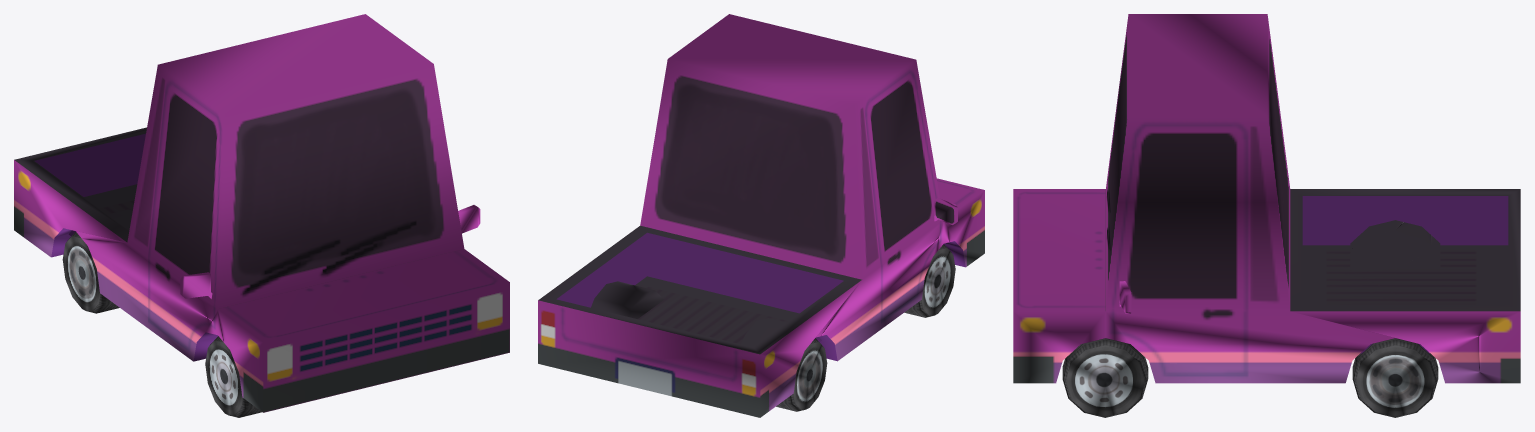
Rendered from pick-up1.gltf.
3 renders of one model, left to right at view 1: azimuth 30°, elevation 25°; view 2: azimuth 150°, elevation 25°; view 3: azimuth 270°, elevation 25°, orthographic. The views are drawn at different scales.
Visible parts, largest first — view 1: Low_Poly_Vehicles_pickupTruck01; view 2: Low_Poly_Vehicles_pickupTruck01; view 3: Low_Poly_Vehicles_pickupTruck01.
Boxes of the visible parts, box(x1,y1,x2,y2) form: Low_Poly_Vehicles_pickupTruck01: box(14, 14, 509, 417); Low_Poly_Vehicles_pickupTruck01: box(538, 14, 984, 417); Low_Poly_Vehicles_pickupTruck01: box(1013, 14, 1520, 417).
Bounding box in the file's own units: 24.16 × 22.5 × 35.05.
1 material, 1 textured.
